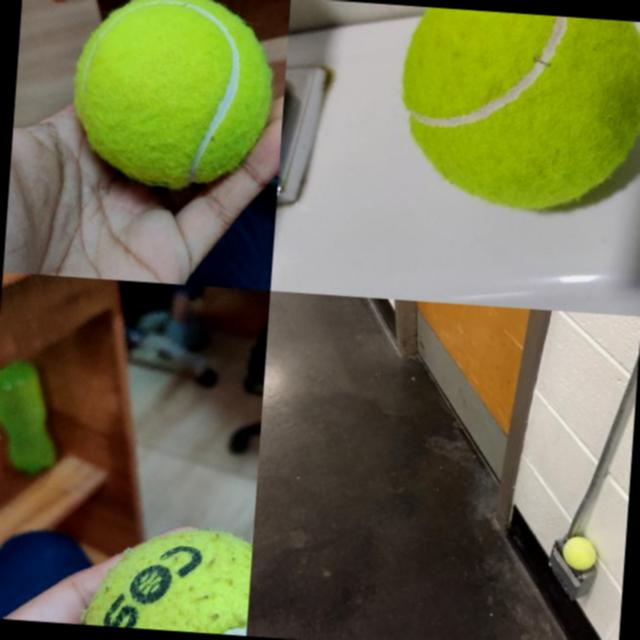tennis-ball: (390, 5, 640, 218), (68, 0, 278, 192), (80, 520, 252, 634), (560, 534, 598, 570)
